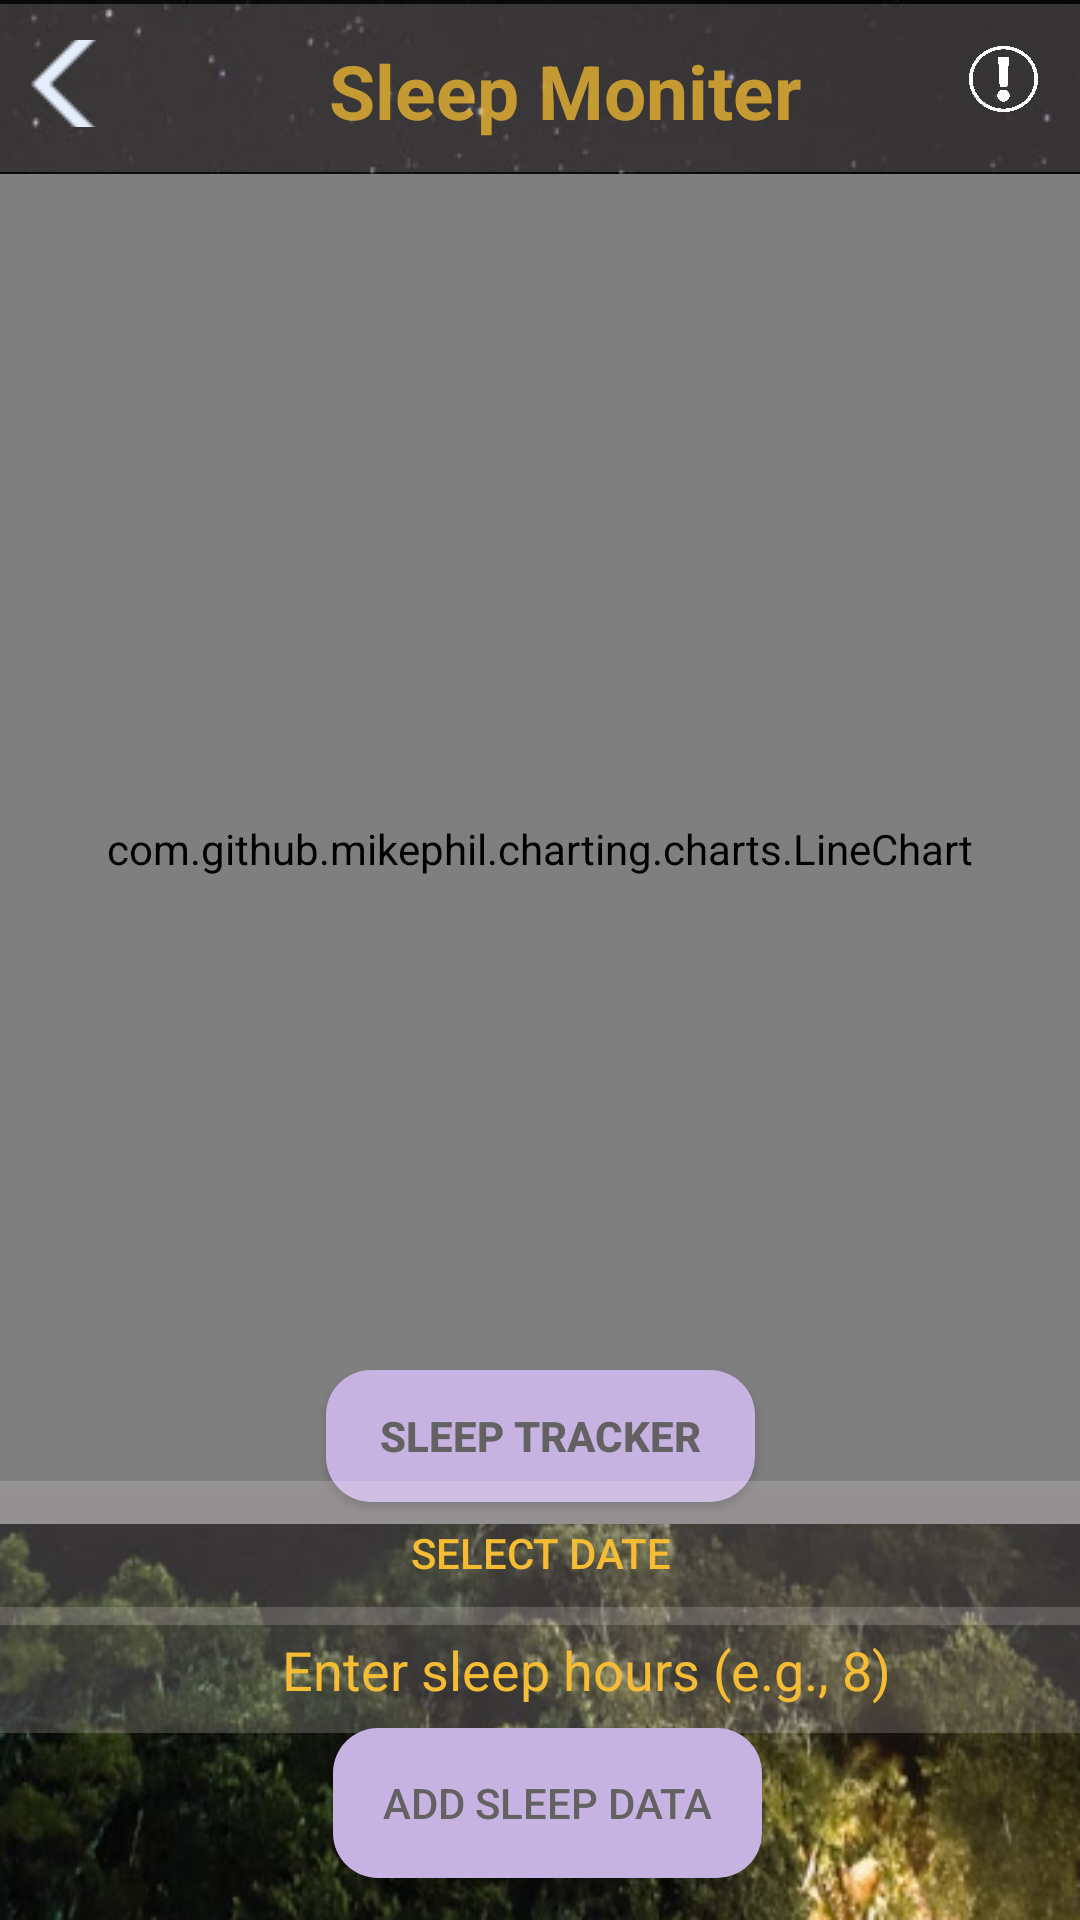

Named icons in this screenshot (1080w x 1920h) and their centers, [x,y]:
back: [63,83]
exclamation marke: [1003,79]
